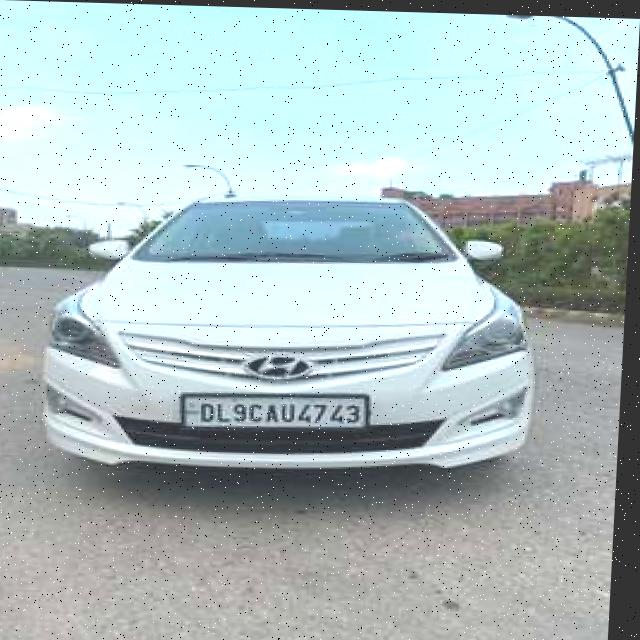plate: (183, 390, 375, 427)
